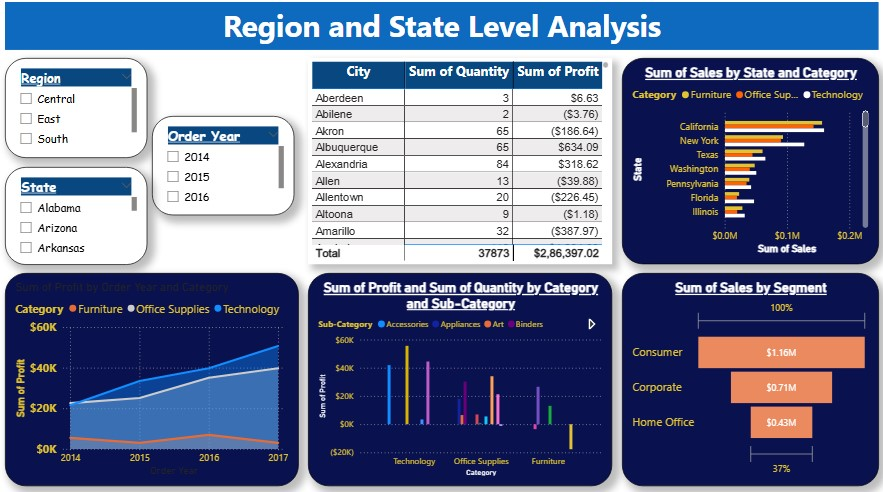

Layout of this report page (visuals, bound fields, positions):
{"tool":"powerbi","page":{"name":"Region and  State Level Analysis","canvas":[1280,720],"ordinal":1},"visuals":[{"type":"textbox","box":[10.1,11.8,1258.2,68.9],"z":0},{"type":"slicer","fields":{"Values":["Superstore.Region"]},"box":[10.1,92.4,204.9,144.5],"z":1000},{"type":"tableEx","fields":{"Values":["Superstore.City","Sum(Superstore.Quantity)","Sum(Superstore.Profit)"]},"box":[446.8,92.4,438.4,297.3],"z":2000},{"type":"slicer","fields":{"Values":["Superstore.Order Year"]},"box":[221.7,176.4,204.9,142.8],"z":3000},{"type":"clusteredBarChart","fields":{"Category":["Superstore.State"],"Y":["Sum(Superstore.Sales)"],"Series":["Superstore.Category"]},"box":[898.7,92.4,369.6,297.3],"z":4000},{"type":"areaChart","fields":{"Series":["Superstore.Category"],"Category":["Superstore.Order Year"],"Y":["Sum(Superstore.Profit)"]},"box":[10.1,401.5,423.3,307.4],"z":5000},{"type":"lineClusteredColumnComboChart","fields":{"Category":["Superstore.Category"],"Y":["Sum(Superstore.Profit)"],"Series":["Superstore.Sub-Category"]},"box":[446.8,401.5,438.4,307.4],"z":6000},{"type":"funnel","fields":{"Category":["Superstore.Segment"],"Y":["Sum(Superstore.Sales)"]},"box":[898.7,401.5,369.6,307.4],"z":7000},{"type":"slicer","fields":{"Values":["Superstore.State"]},"box":[10.1,248.6,204.9,141.1],"z":8000}]}

Visuals, with their boxes in screenshot pixels (x1, y1, x2, y2), scaled from the page's 1280x720 canvas onto the 883x492 screenshot:
textbox: 7/8/875/55
slicer - Superstore.Region: 7/63/148/162
tableEx - Superstore.City x Sum(Superstore.Quantity): 308/63/611/266
slicer - Superstore.Order Year: 153/121/294/218
clusteredBarChart - Superstore.State x Sum(Superstore.Sales): 620/63/875/266
areaChart - Superstore.Category x Superstore.Order Year: 7/274/299/484
lineClusteredColumnComboChart - Superstore.Category x Sum(Superstore.Profit): 308/274/611/484
funnel - Superstore.Segment x Sum(Superstore.Sales): 620/274/875/484
slicer - Superstore.State: 7/170/148/266
